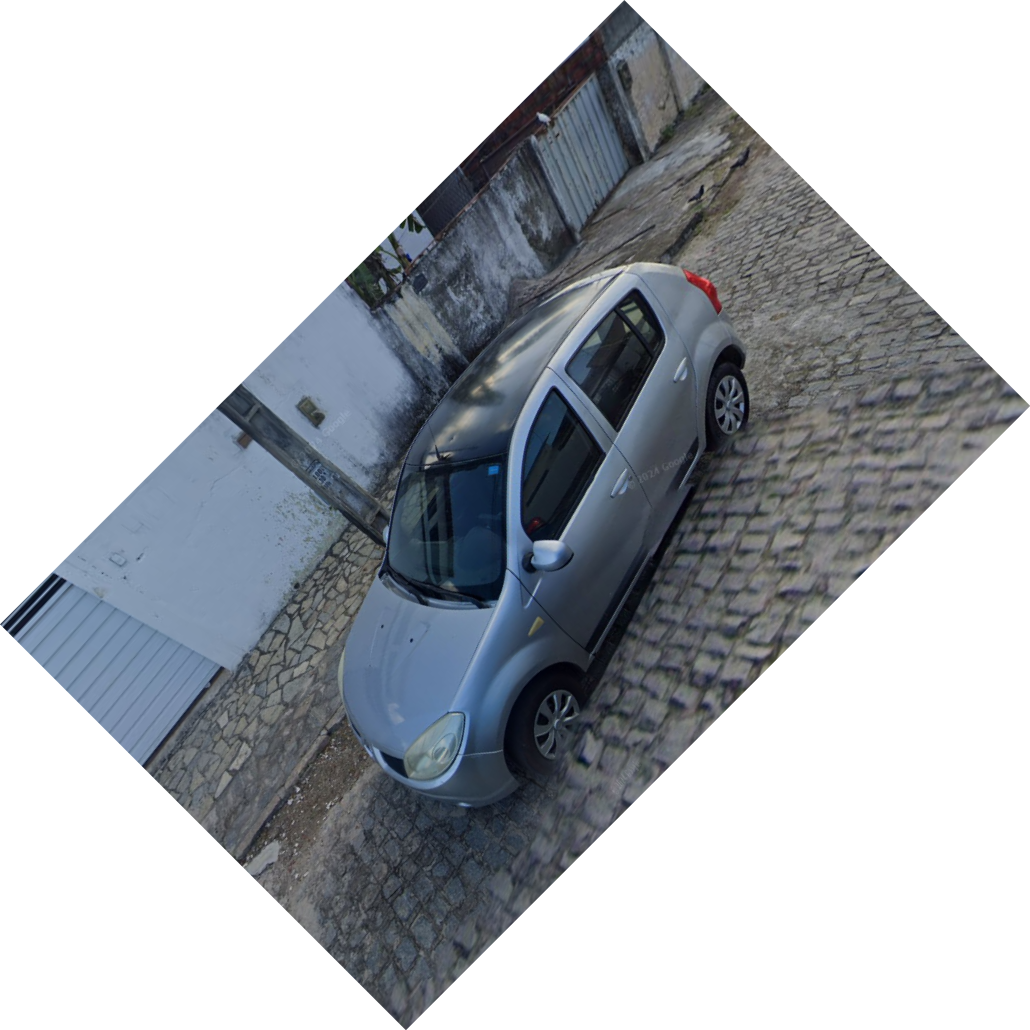car: (336, 262, 755, 812)
